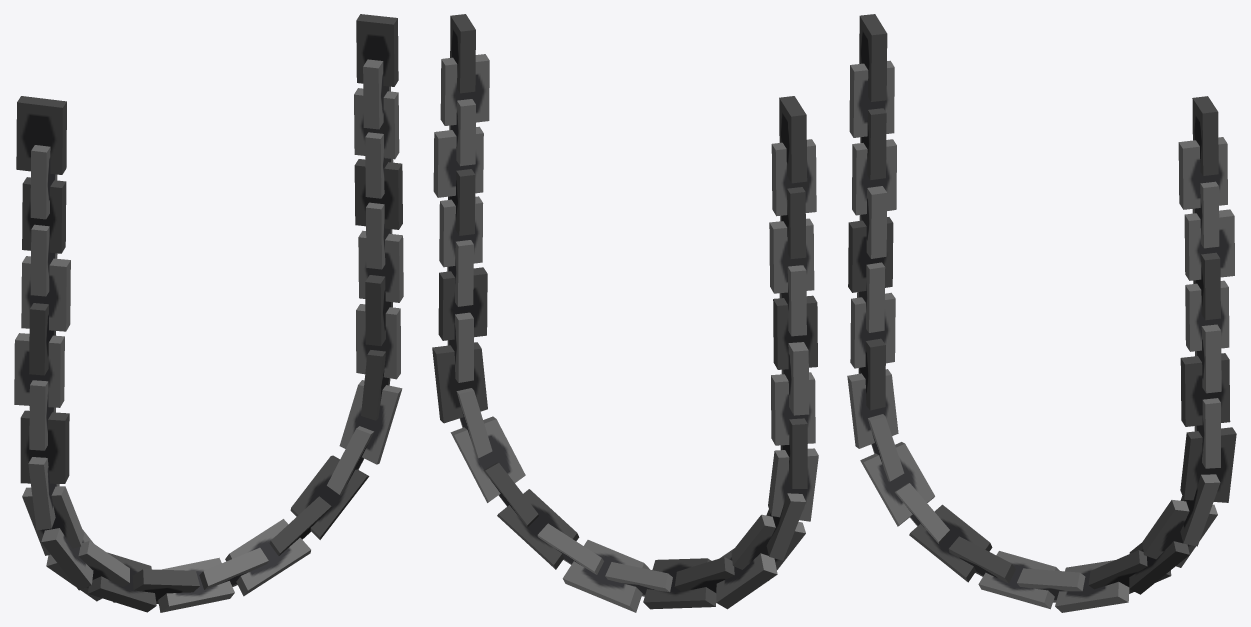
The model's file is SM_Prop_Chain_06.glb.
The picture shows the model from 3 angles, left to right: view 1: azimuth 30°, elevation 25°; view 2: azimuth 150°, elevation 25°; view 3: azimuth 330°, elevation 25°; orthographic projection.
Parts seen in each view (by area): view 1: SM_Prop_Chain_06; view 2: SM_Prop_Chain_06; view 3: SM_Prop_Chain_06.
Part boxes in pixels (x1,y1,x2,y2): SM_Prop_Chain_06: [14, 14, 403, 612]; SM_Prop_Chain_06: [432, 14, 818, 612]; SM_Prop_Chain_06: [847, 14, 1236, 612].
Size of the model in its own units: 0.00786 by 0.0108 by 0.000876.
Materials: 1 (1 with a texture image).
